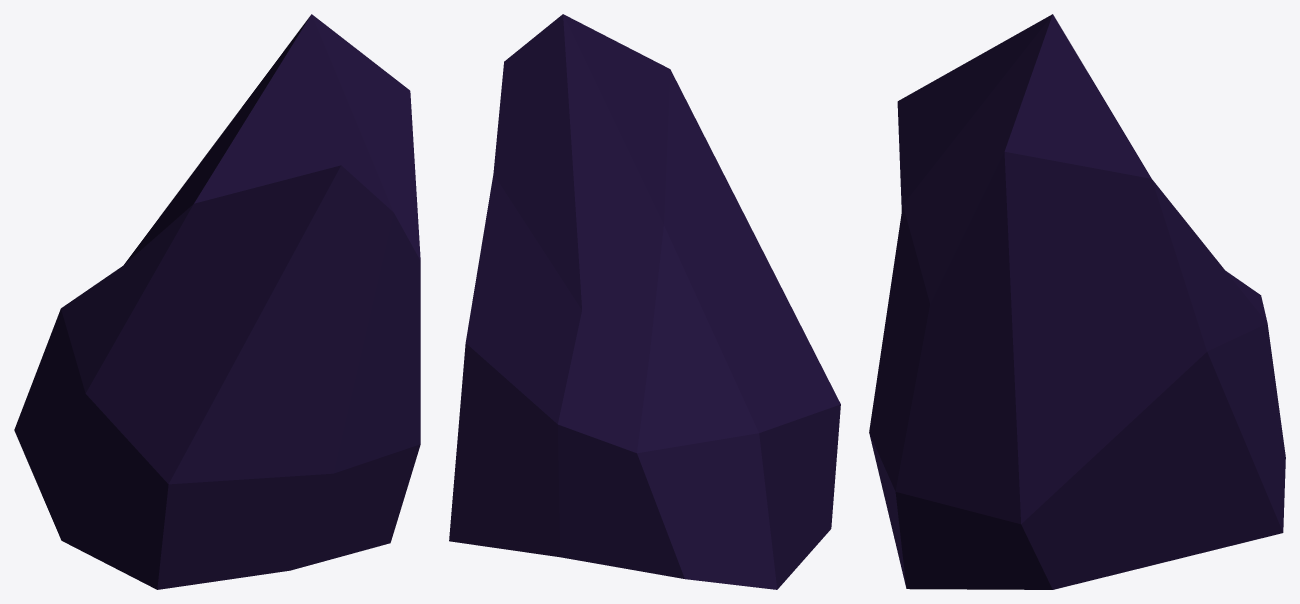
The model's file is stone_012_grp.fbx.
The picture shows the model from 3 angles, left to right: view 1: azimuth 30°, elevation 25°; view 2: azimuth 150°, elevation 25°; view 3: azimuth 270°, elevation 25°; orthographic projection. The views are drawn at different scales.
Parts seen in each view (by area): view 1: stone_012_grp; view 2: stone_012_grp; view 3: stone_012_grp.
Part boxes in pixels (x1,y1,x2,y2): stone_012_grp: (14, 14, 420, 589); stone_012_grp: (449, 14, 840, 589); stone_012_grp: (869, 14, 1285, 589).
Size of the model in its own units: 100 by 150 by 100.
